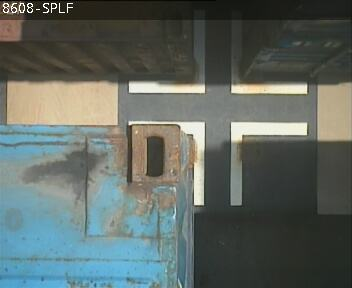groundmarker_1: (128, 120, 307, 204), (128, 10, 307, 93)
